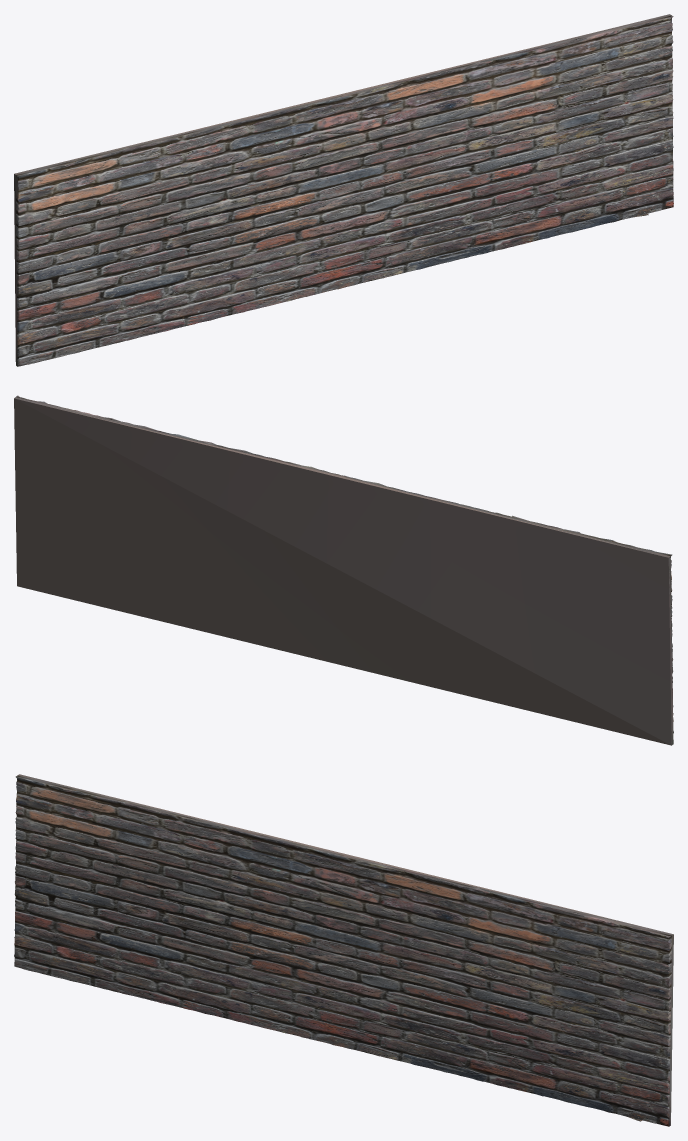
File: wall.glb
3 views of the same model, one above another, from view 1: azimuth 30°, elevation 25°; view 2: azimuth 150°, elevation 25°; view 3: azimuth 330°, elevation 25° (orthographic).
Visible parts, largest first — view 1: Object_2; view 2: Object_2; view 3: Object_2.
Part boxes in pixels (x1,y1,x2,y2): Object_2: (14,14,673,366); Object_2: (14,395,673,745); Object_2: (14,774,673,1126).
Size of the model in its own units: 388 by 107 by 6.57.
1 material, 1 textured.
